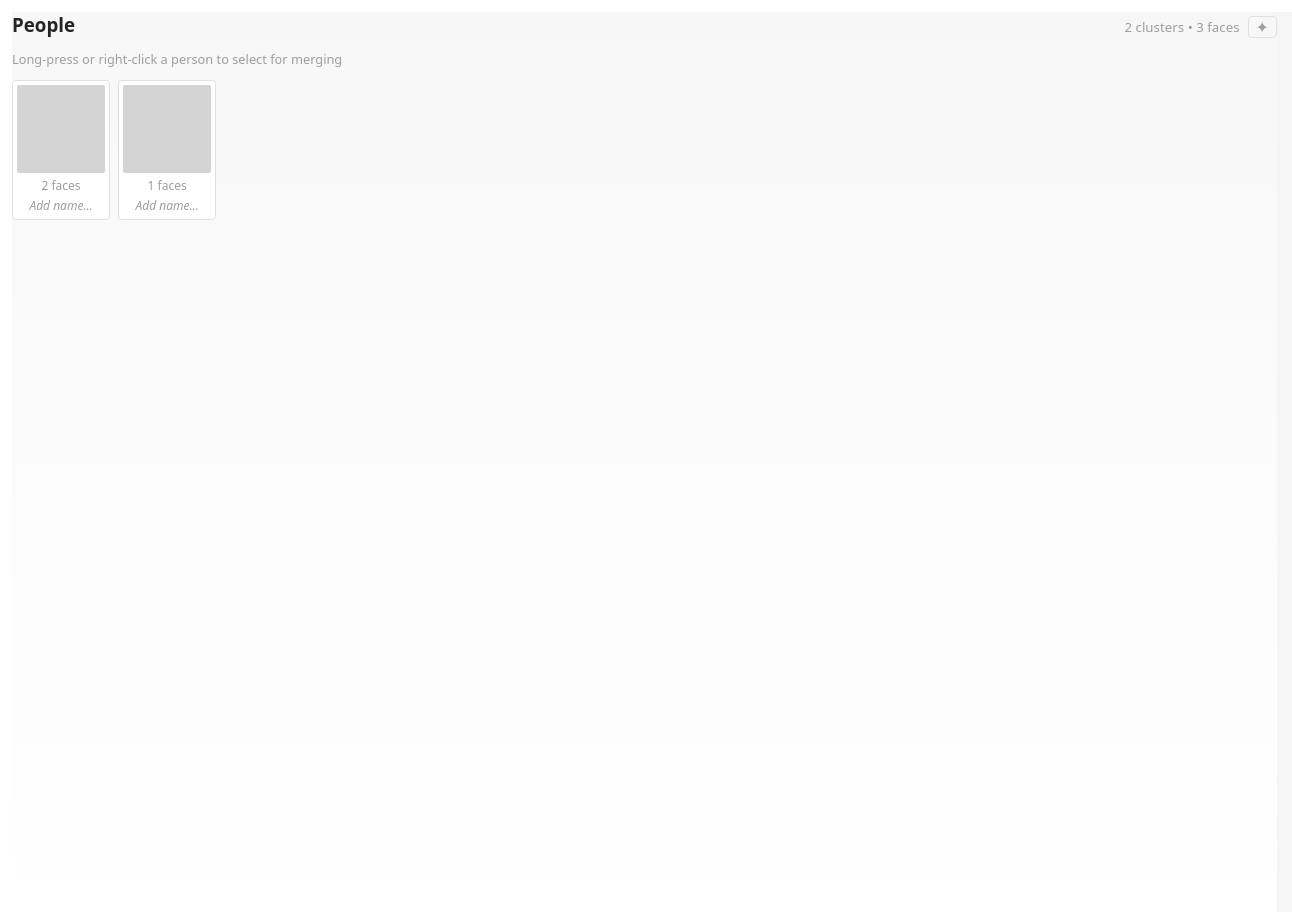
it: PeopleView › filters the face grid to a viewed match group or suggested match and restores all faces
Expected: the text "2 clusters • 3 faces" is shown, left=1124, top=18, right=1240, bottom=36
Expected: the text "2 faces" is shown, left=42, top=177, right=81, bottom=194
Click the button "2 faces": {"x": 61, "y": 140} left=17, top=85, right=105, bottom=194
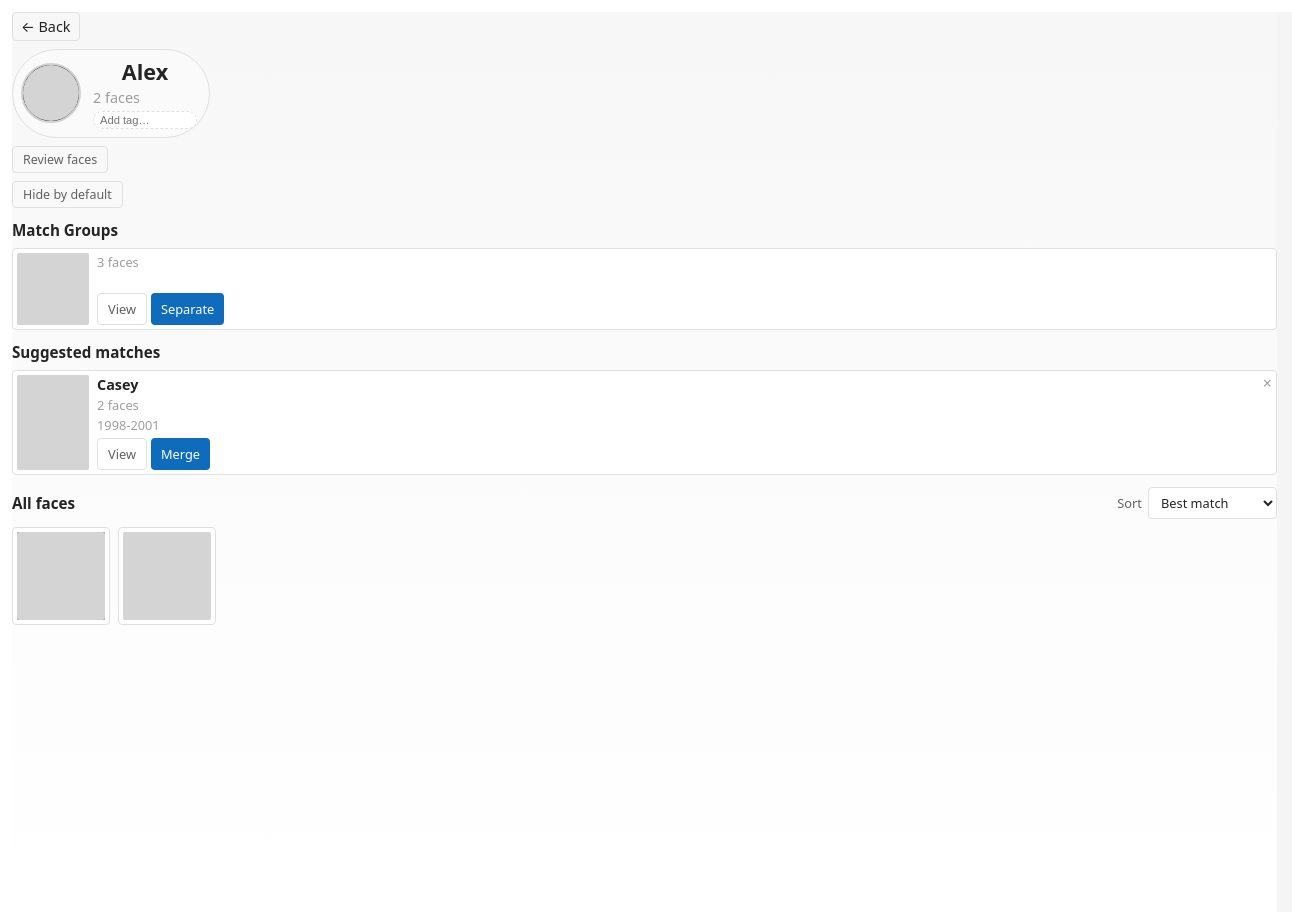
Expected: the button "← Back" is shown, left=12, top=12, right=80, bottom=41
Expected: the heading "Match Groups" is shown, left=12, top=220, right=118, bottom=240
Expected: the heading "Suggested matches" is shown, left=12, top=342, right=160, bottom=362
Click the button "View" below "Match Groups": {"x": 122, "y": 309} left=97, top=293, right=147, bottom=325
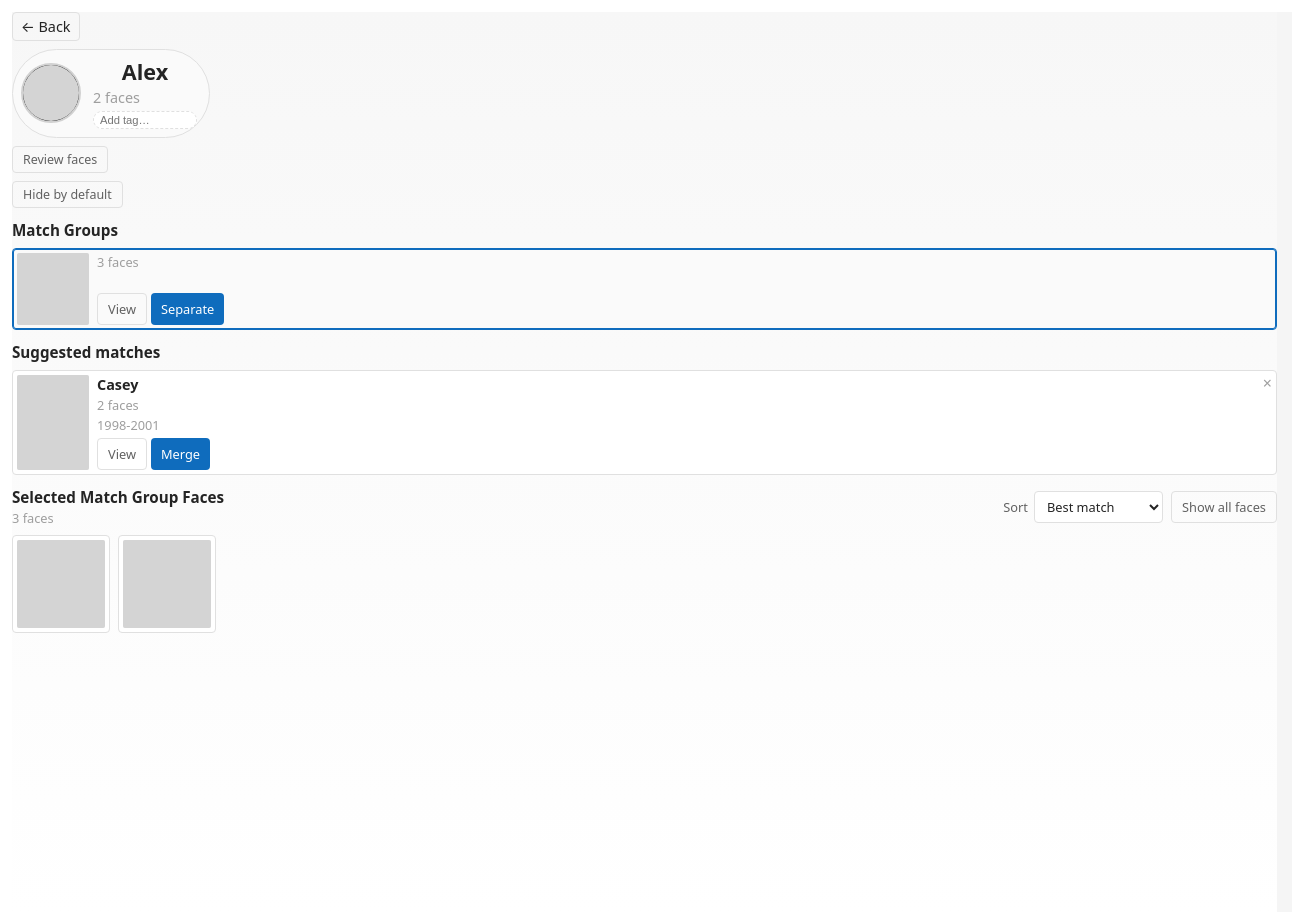
Expected: the text "3 faces" below "Match Groups" is shown, left=97, top=253, right=139, bottom=271
Expected: the heading "Selected Match Group Faces" is shown, left=12, top=487, right=224, bottom=507
Expected: the button "Show all faces" is shown, left=1171, top=491, right=1277, bottom=523
Click the button "View" below "1998-2001": {"x": 122, "y": 454} left=97, top=438, right=147, bottom=470
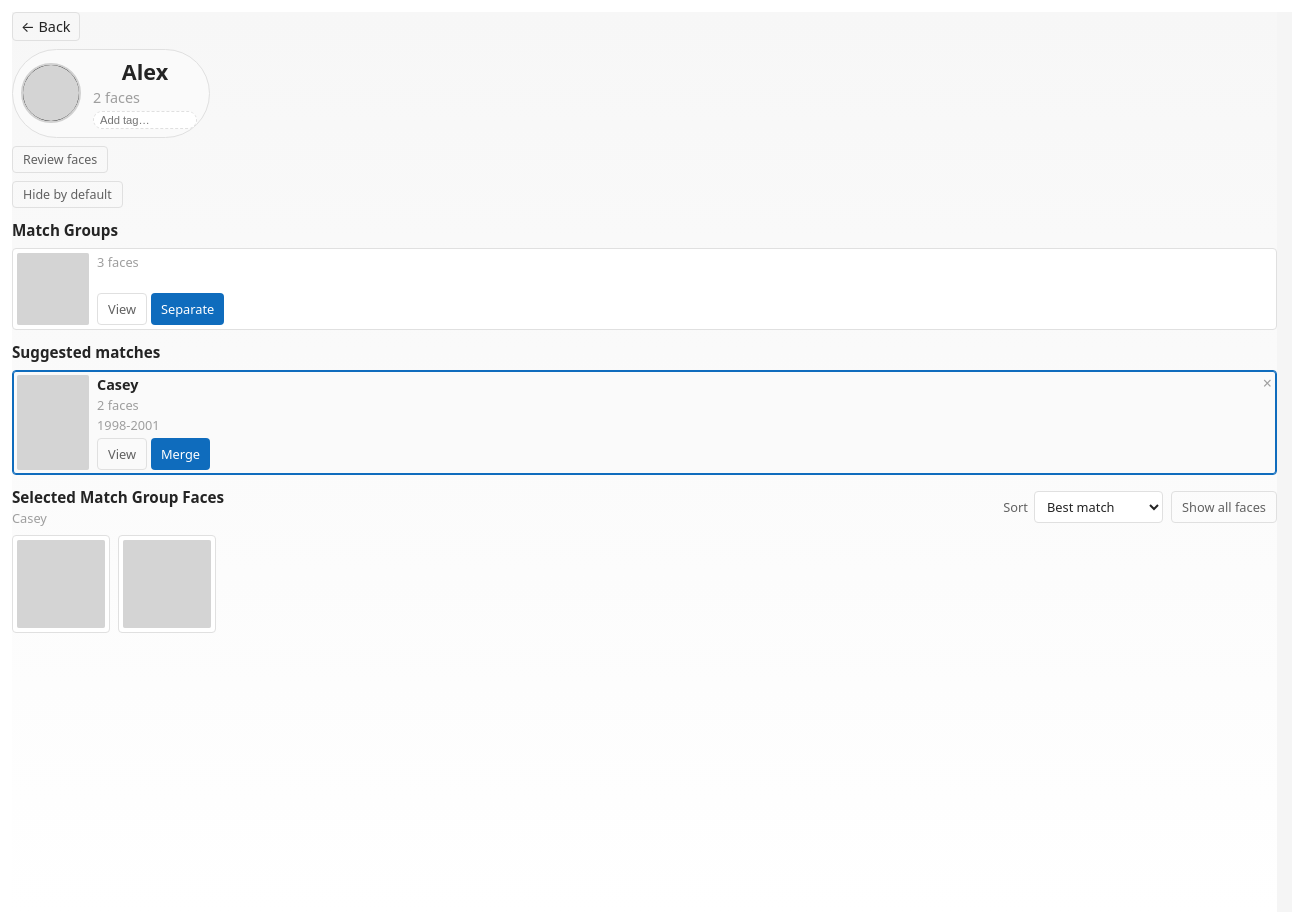
Expected: the heading "Selected Match Group Faces" is shown, left=12, top=487, right=224, bottom=507
Expected: the text "Casey" below "Suggested matches" is shown, left=97, top=375, right=138, bottom=394
Click the button "Show all faces": {"x": 1224, "y": 507} left=1171, top=491, right=1277, bottom=523
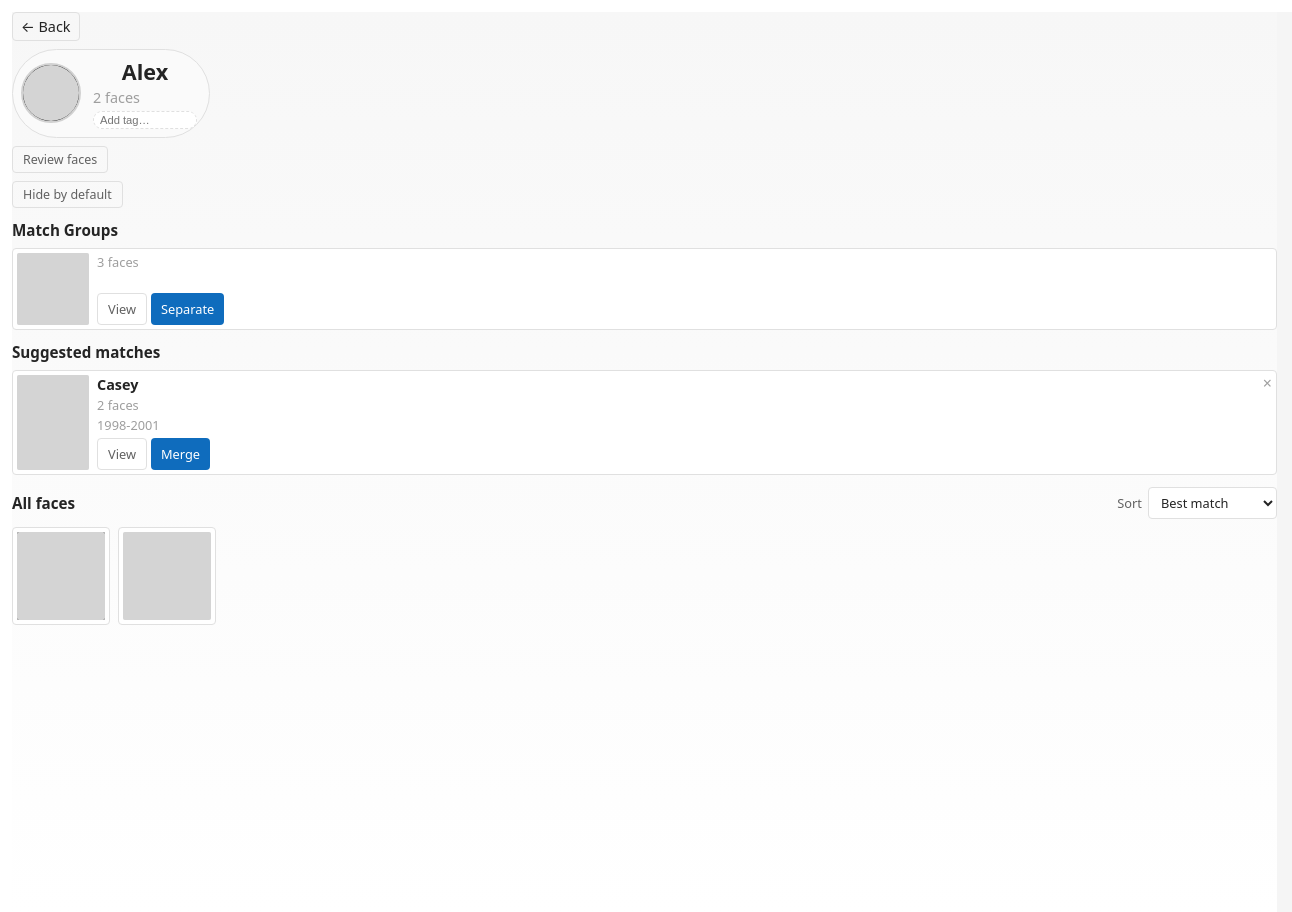
Expected: the heading "All faces" is shown, left=12, top=493, right=75, bottom=513
